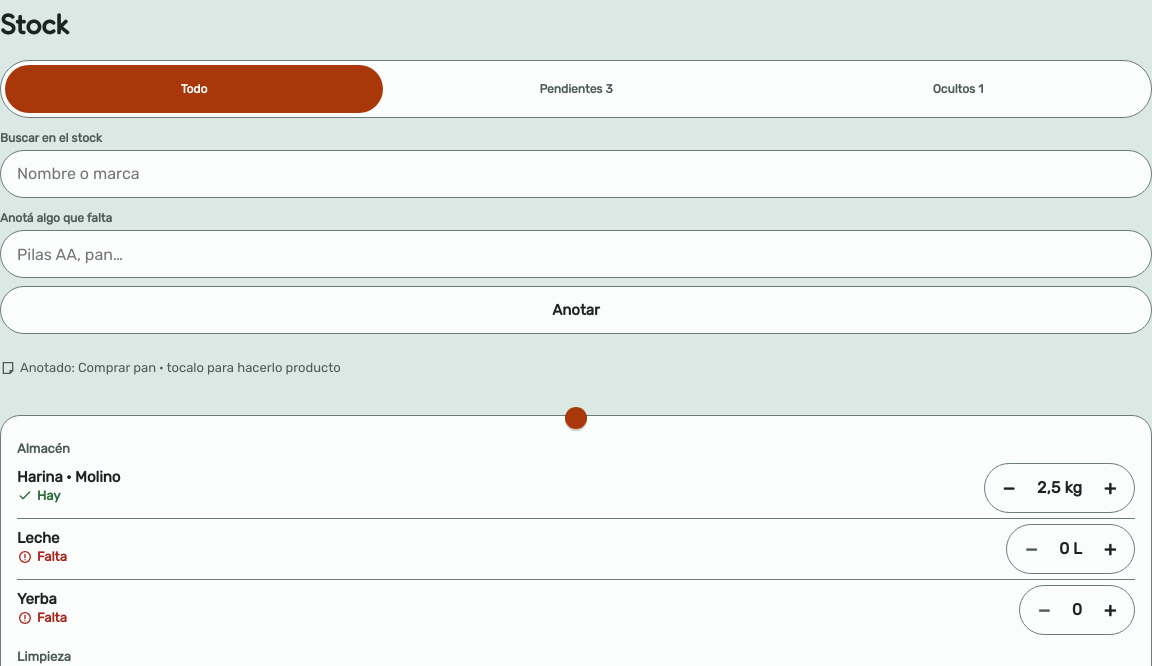
en Pendientes, lo que se toca no desaparece bajo el dedo
Expected: the tab "Todo" is shown, [5,65,383,113]
Click the tab "Pendientes 3" at (576, 89), box [387,65,765,113]
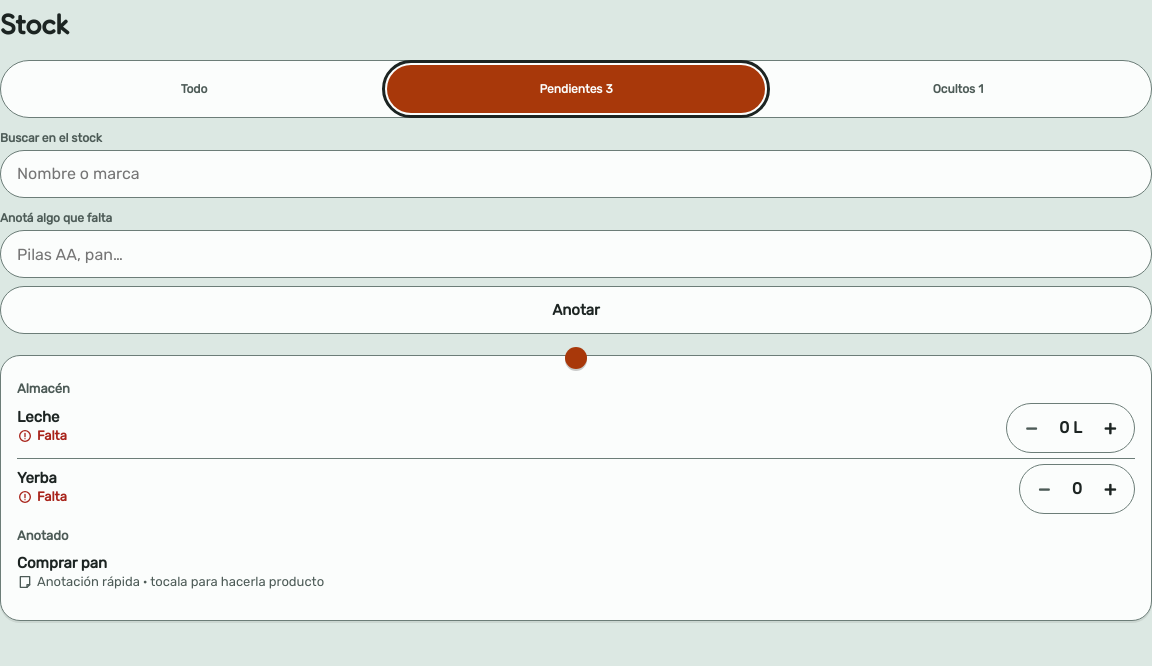
Click the button named "Sumar uno a Yerba" at (1110, 489), box [1086,465,1134,513]
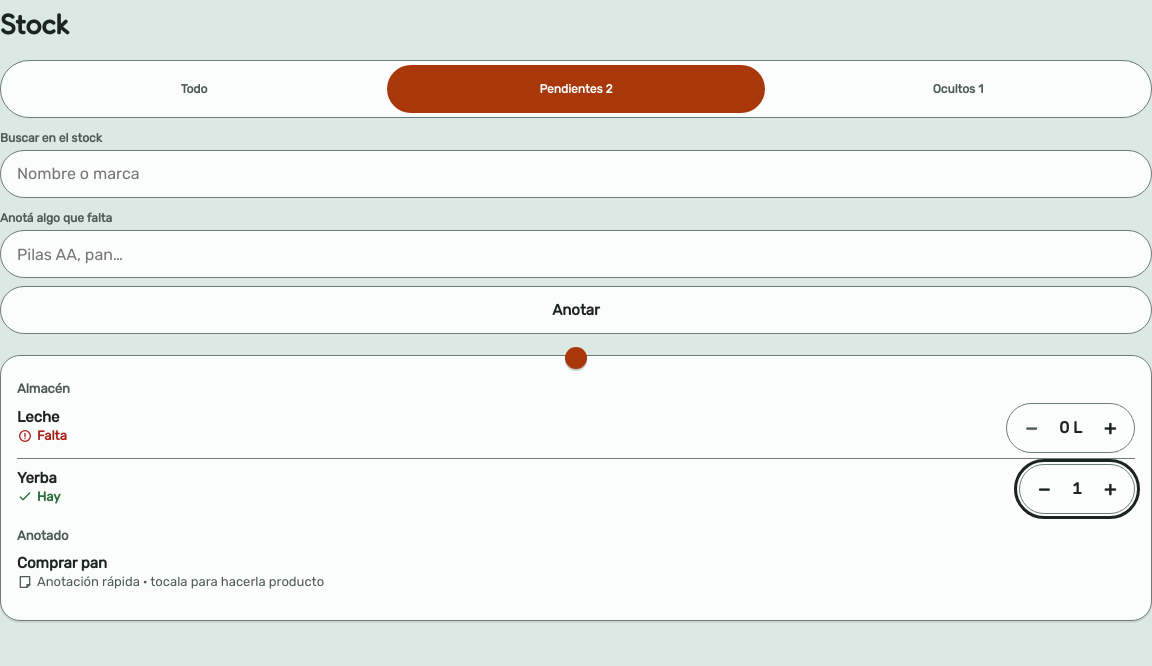
Now the button named "Cantidad de Yerba: 1" is shown, box [1068,465,1086,513]
Now the button with aria-label "Yerba, Hay" is shown, box [17,459,1007,519]
